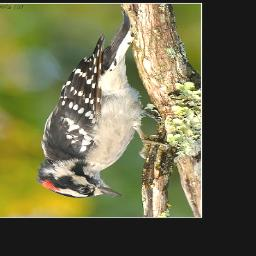Woodpecker: (33, 10, 165, 198)
